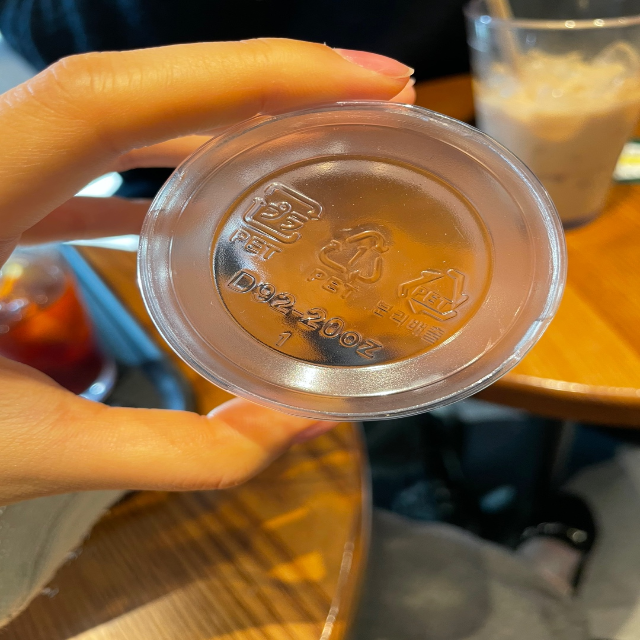pet: (224, 177, 325, 269), (369, 264, 470, 347), (303, 221, 394, 298)
